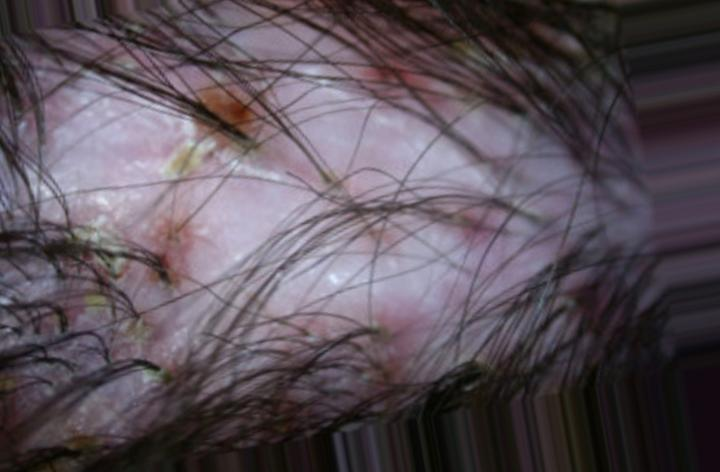Folliculitis: (90, 60, 476, 321)
